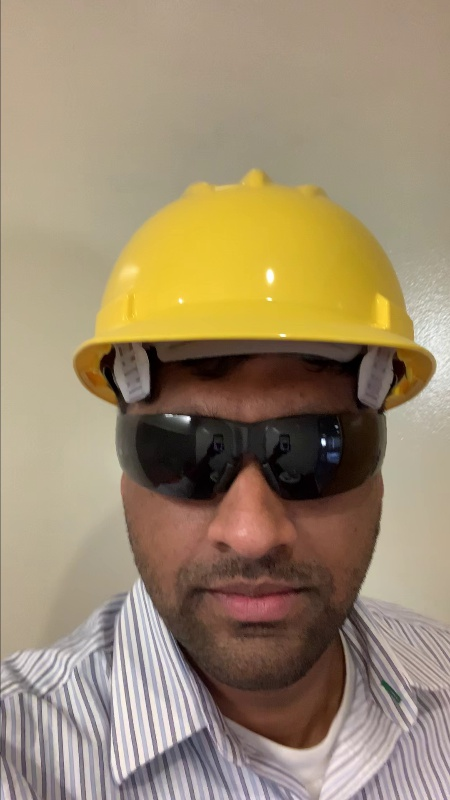glasses: (112, 408, 395, 499)
helmet: (56, 163, 439, 411)
